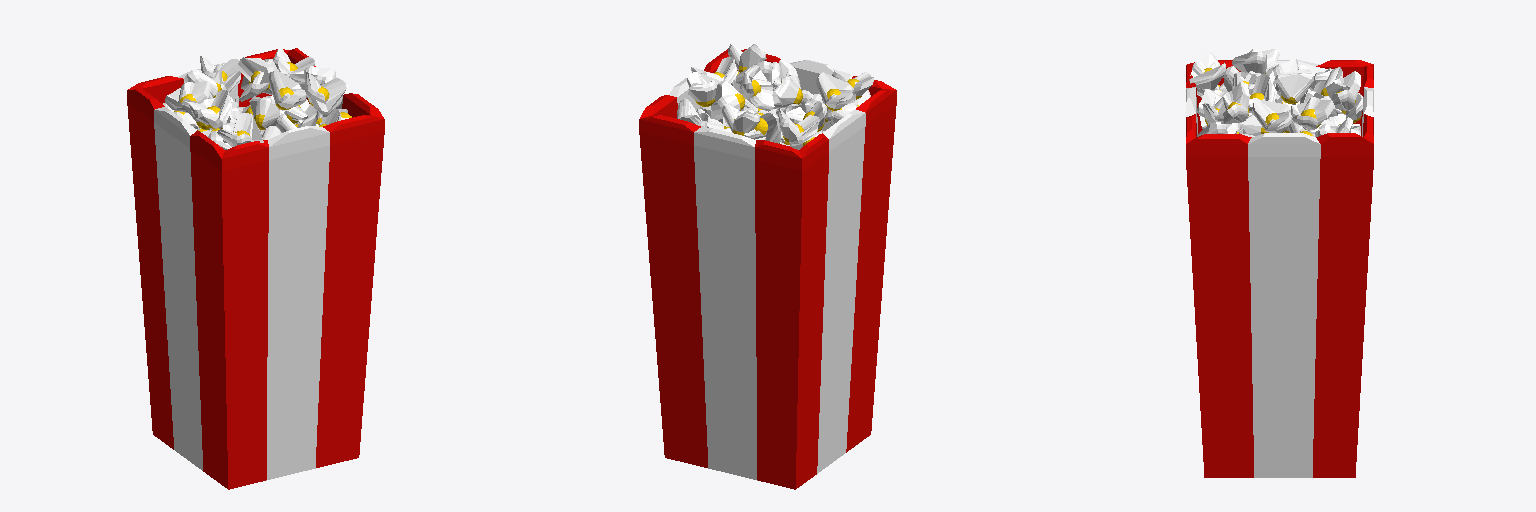
The picture shows the model from 3 angles: view 1: azimuth 30°, elevation 25°; view 2: azimuth 150°, elevation 25°; view 3: azimuth 270°, elevation 25°; orthographic projection.
Parts seen in each view (by area): view 1: group[number redacted], group[number redacted], group[number redacted], group[number redacted], group[number redacted], group[number redacted], group[number redacted], group[number redacted], group[number redacted], group[number redacted], group[number redacted]; view 2: group[number redacted], group[number redacted], group[number redacted], group[number redacted], group[number redacted], group[number redacted], group[number redacted], group[number redacted], group[number redacted], group[number redacted], group[number redacted], group[number redacted]; view 3: group[number redacted], group[number redacted], group[number redacted], group[number redacted], group[number redacted], group[number redacted], group[number redacted], group[number redacted], group[number redacted].
Boxes of the visible parts, x1=… form: group[number redacted]: x1=127, y1=48, x2=384, y2=489; group[number redacted]: x1=305, y1=72, x2=346, y2=116; group[number redacted]: x1=238, y1=57, x2=273, y2=101; group[number redacted]: x1=269, y1=70, x2=306, y2=109; group[number redacted]: x1=187, y1=90, x2=231, y2=128; group[number redacted]: x1=217, y1=113, x2=263, y2=146; group[number redacted]: x1=165, y1=81, x2=211, y2=112; group[number redacted]: x1=249, y1=96, x2=285, y2=129; group[number redacted]: x1=200, y1=56, x2=240, y2=93; group[number redacted]: x1=273, y1=46, x2=314, y2=76; group[number redacted]: x1=289, y1=66, x2=335, y2=97; group[number redacted]: x1=639, y1=49, x2=896, y2=489; group[number redacted]: x1=740, y1=65, x2=774, y2=111; group[number redacted]: x1=816, y1=72, x2=853, y2=110; group[number redacted]: x1=777, y1=108, x2=819, y2=145; group[number redacted]: x1=687, y1=72, x2=720, y2=106; group[number redacted]: x1=711, y1=80, x2=744, y2=126; group[number redacted]: x1=772, y1=75, x2=802, y2=108; group[number redacted]: x1=722, y1=104, x2=759, y2=135; group[number redacted]: x1=737, y1=110, x2=779, y2=141; group[number redacted]: x1=728, y1=44, x2=766, y2=72; group[number redacted]: x1=832, y1=69, x2=873, y2=99; group[number redacted]: x1=786, y1=101, x2=826, y2=131; group[number redacted]: x1=1186, y1=60, x2=1373, y2=477; group[number redacted]: x1=1252, y1=99, x2=1292, y2=132; group[number redacted]: x1=1214, y1=82, x2=1249, y2=123; group[number redacted]: x1=1275, y1=69, x2=1313, y2=103; group[number redacted]: x1=1291, y1=97, x2=1334, y2=129; group[number redacted]: x1=1189, y1=52, x2=1226, y2=89; group[number redacted]: x1=1232, y1=49, x2=1279, y2=73; group[number redacted]: x1=1329, y1=71, x2=1360, y2=110; group[number redacted]: x1=1248, y1=74, x2=1276, y2=113.
Size of the model in its own units: 0.67 by 1.49 by 0.67.